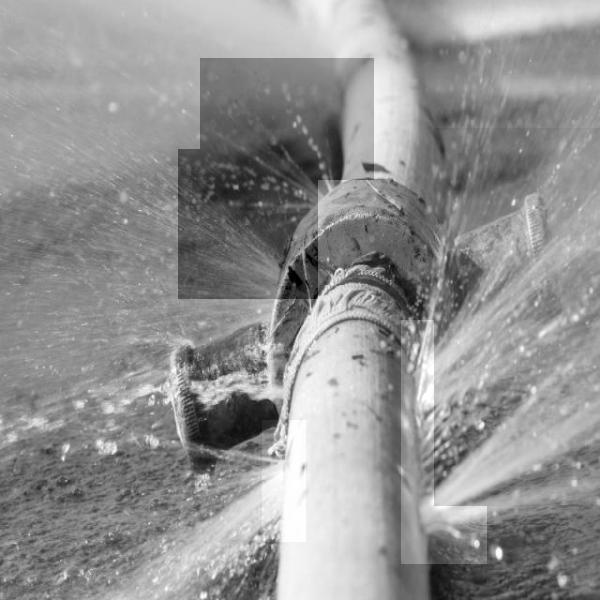leak: (434, 128, 600, 506), (200, 58, 374, 180), (178, 149, 318, 299), (401, 320, 487, 564), (262, 420, 306, 542)
